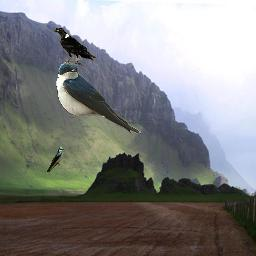Crow: (53, 28, 97, 65)
Swallow: (56, 62, 141, 134), (46, 146, 64, 174)
